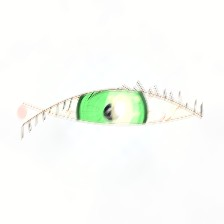corneal_ulcer: (94, 88, 150, 132)
